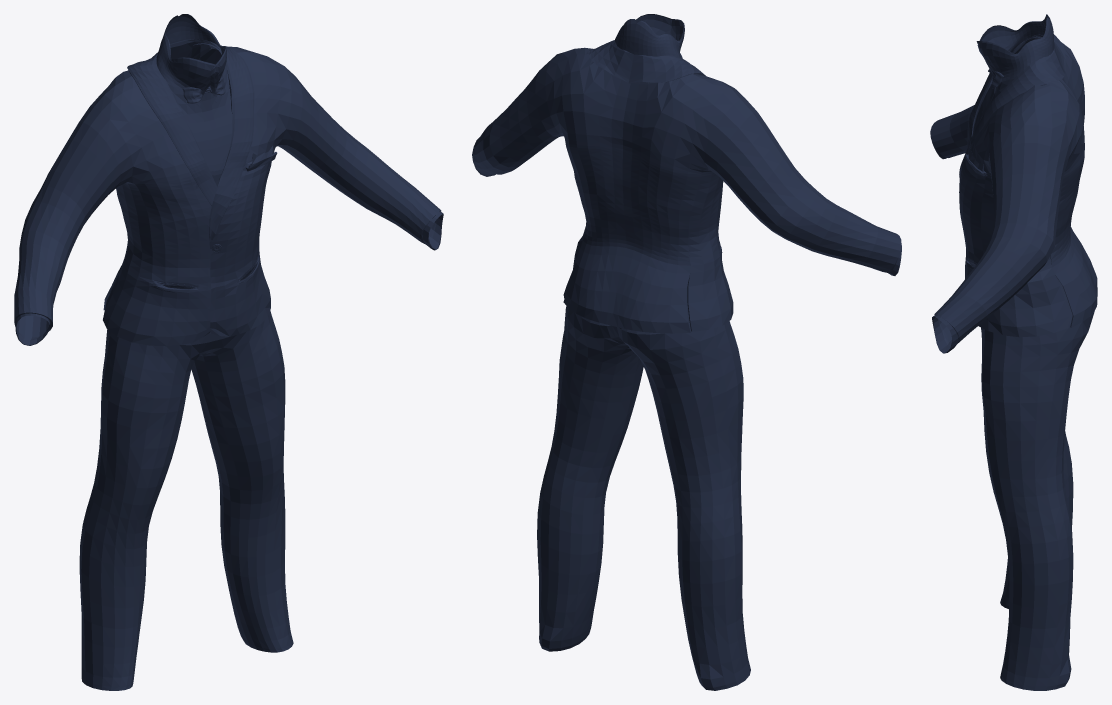
The model's file is suit_dinner_jacket.fitted.obj.
3 renders of one model, left to right at view 1: azimuth 30°, elevation 25°; view 2: azimuth 150°, elevation 25°; view 3: azimuth 270°, elevation 25°, orthographic. The views are drawn at different scales.
Visible parts, largest first — view 1: suit_dinner_jacket; view 2: suit_dinner_jacket; view 3: suit_dinner_jacket.
Boxes of the visible parts, <box> form: suit_dinner_jacket: <box>14,14,443,690</box>; suit_dinner_jacket: <box>472,14,901,690</box>; suit_dinner_jacket: <box>930,14,1097,690</box>.
Size of the model in its own units: 10.42 by 15 by 3.61.
